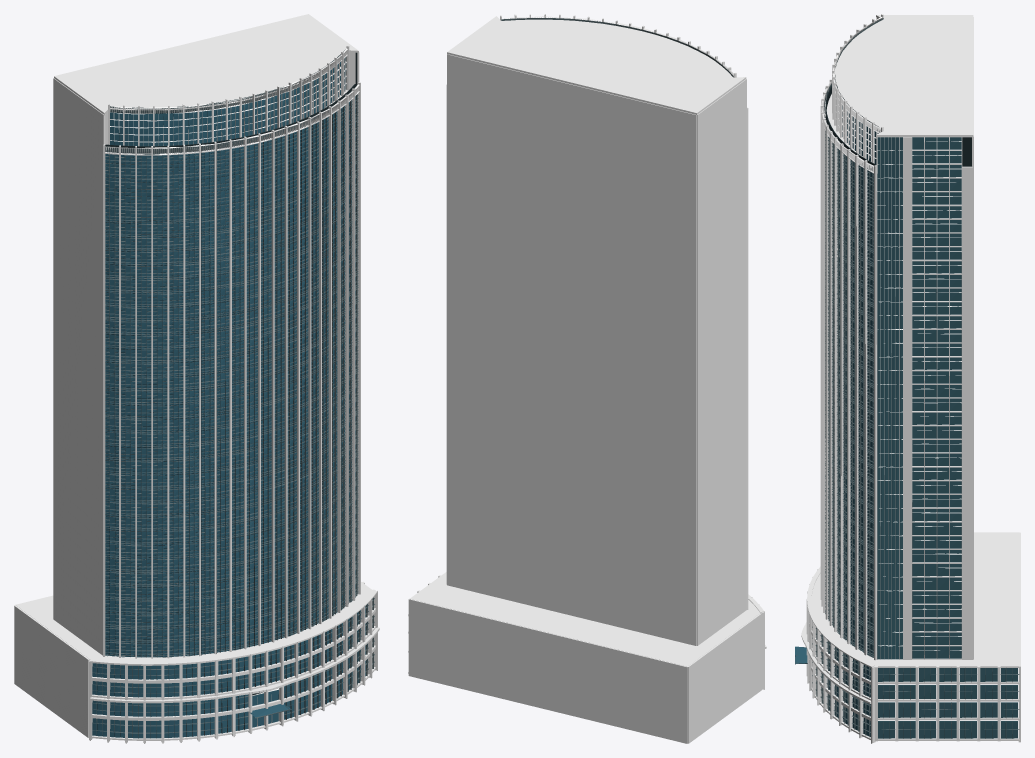
The model's file is light.glb.
The picture shows the model from 3 angles, left to right: view 1: azimuth 30°, elevation 25°; view 2: azimuth 150°, elevation 25°; view 3: azimuth 270°, elevation 25°; orthographic projection. The views are drawn at different scales.
Parts seen in each view (by area): view 1: Front_individual_thick_glazing_closed, Front_minor_vertical_and_horizontal_mullions, Front_continuous_silver_primary_ribs, CLOSURE_HOLD_unseen_back_and_opposite_side, CLOSURE_HOLD_main_roof_and_crown_annulus, Podium_purple_stone_curved_piers_and_spandrels, Podium_continuous_curved_projection_and_coping, NOT_INTERIOR_structural_support_plates, Front_glazing_rebate_and_dark_gaskets; view 2: CLOSURE_HOLD_unseen_back_and_opposite_side, CLOSURE_HOLD_main_roof_and_crown_annulus, Podium_continuous_curved_projection_and_coping, Front_continuous_silver_primary_ribs; view 3: Podium_side_back_observed_long_window_groups, Front_continuous_silver_primary_ribs, Front_minor_vertical_and_horizontal_mullions, CLOSURE_HOLD_main_roof_and_crown_annulus, Front_individual_thick_glazing_closed, Podium_continuous_curved_projection_and_coping, Podium_purple_stone_curved_piers_and_spandrels, Front_glazing_rebate_and_dark_gaskets, CLOSURE_HOLD_unseen_back_and_opposite_side, NOT_INTERIOR_structural_support_plates.
Boxes of the visible parts, x1=… form: Front_individual_thick_glazing_closed: x1=92, y1=57, x2=367, y2=738; Front_minor_vertical_and_horizontal_mullions: x1=92, y1=49, x2=374, y2=738; Front_continuous_silver_primary_ribs: x1=103, y1=45, x2=360, y2=726; CLOSURE_HOLD_unseen_back_and_opposite_side: x1=14, y1=78, x2=105, y2=737; CLOSURE_HOLD_main_roof_and_crown_annulus: x1=54, y1=14, x2=358, y2=155; Podium_purple_stone_curved_piers_and_spandrels: x1=89, y1=581, x2=377, y2=743; Podium_continuous_curved_projection_and_coping: x1=16, y1=582, x2=379, y2=703; NOT_INTERIOR_structural_support_plates: x1=97, y1=52, x2=357, y2=736; Front_glazing_rebate_and_dark_gaskets: x1=201, y1=144, x2=216, y2=655; CLOSURE_HOLD_unseen_back_and_opposite_side: x1=408, y1=54, x2=761, y2=743; CLOSURE_HOLD_main_roof_and_crown_annulus: x1=447, y1=16, x2=746, y2=114; Podium_continuous_curved_projection_and_coping: x1=410, y1=572, x2=766, y2=666; Front_continuous_silver_primary_ribs: x1=446, y1=14, x2=748, y2=609; Podium_side_back_observed_long_window_groups: x1=877, y1=137, x2=1017, y2=738; Front_continuous_silver_primary_ribs: x1=820, y1=14, x2=972, y2=660; Front_minor_vertical_and_horizontal_mullions: x1=795, y1=18, x2=1019, y2=738; CLOSURE_HOLD_main_roof_and_crown_annulus: x1=824, y1=15, x2=973, y2=173; Front_individual_thick_glazing_closed: x1=795, y1=106, x2=878, y2=737; Podium_continuous_curved_projection_and_coping: x1=801, y1=533, x2=1019, y2=703; Podium_purple_stone_curved_piers_and_spandrels: x1=806, y1=569, x2=1019, y2=743; Front_glazing_rebate_and_dark_gaskets: x1=825, y1=88, x2=865, y2=654; CLOSURE_HOLD_unseen_back_and_opposite_side: x1=876, y1=17, x2=1020, y2=742; NOT_INTERIOR_structural_support_plates: x1=825, y1=86, x2=971, y2=234.
Size of the model in its own units: 48.51 by 100 by 33.86.
